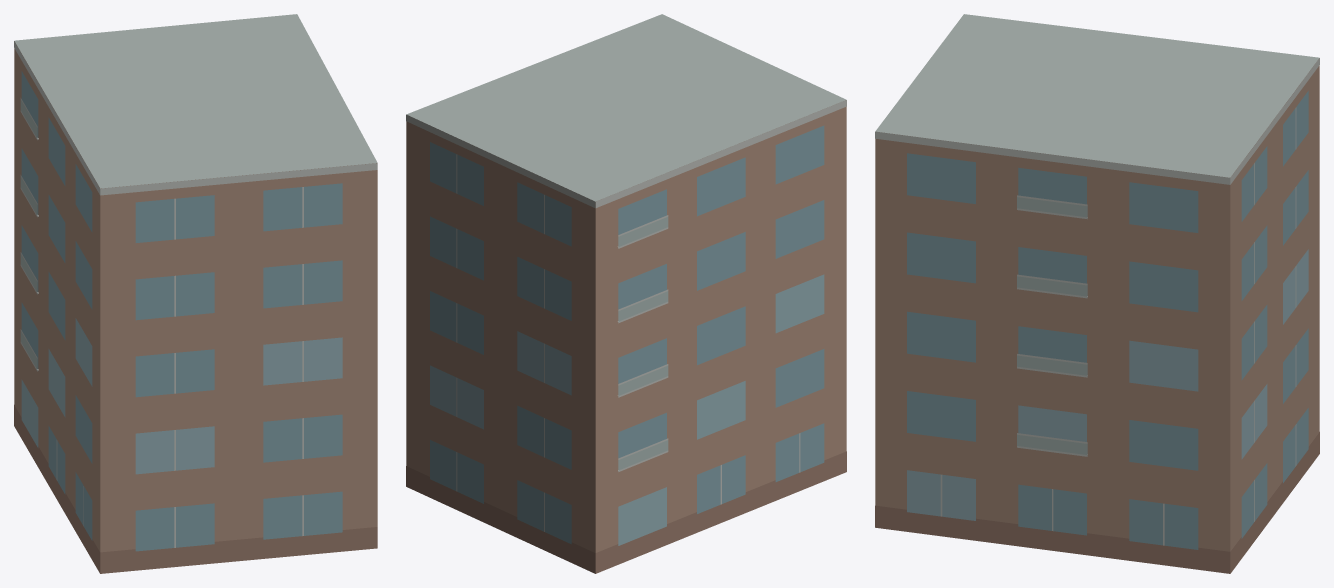
Rendered from survey-upis-32938057.glb.
3 views of the same model, side by side, from view 1: azimuth 30°, elevation 25°; view 2: azimuth 150°, elevation 25°; view 3: azimuth 270°, elevation 25° (orthographic). The views are drawn at different scales.
Visible parts, largest first — view 1: survey-upis-32938057.tmp; view 2: survey-upis-32938057.tmp; view 3: survey-upis-32938057.tmp.
Part boxes in pixels (x1=…): survey-upis-32938057.tmp: x1=14, y1=14, x2=377, y2=573; survey-upis-32938057.tmp: x1=406, y1=14, x2=846, y2=573; survey-upis-32938057.tmp: x1=875, y1=14, x2=1319, y2=573.
Size of the model in its own units: 11.93 by 13.45 by 13.69.
